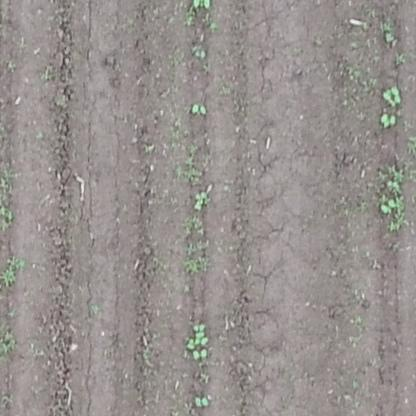vc: (187, 322, 209, 346), (380, 83, 403, 104), (377, 197, 396, 214), (380, 113, 397, 129), (191, 102, 207, 117), (194, 191, 207, 209), (194, 395, 211, 407), (192, 349, 208, 360), (195, 49, 208, 57)
